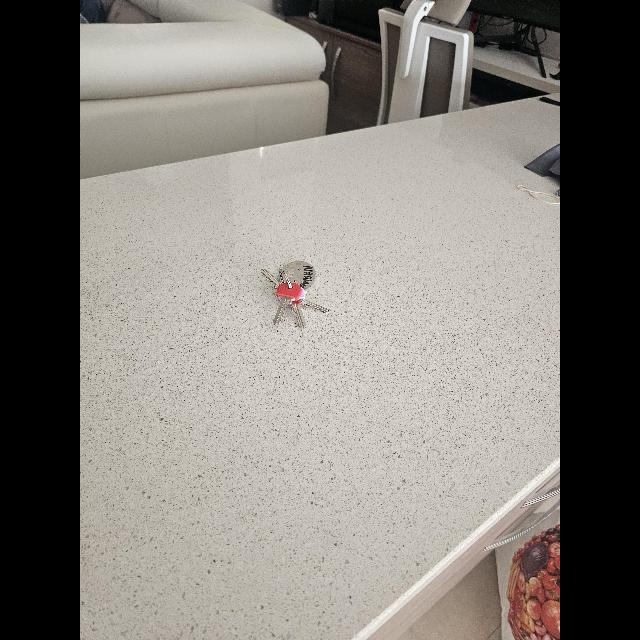Keys: (262, 261, 331, 329)
